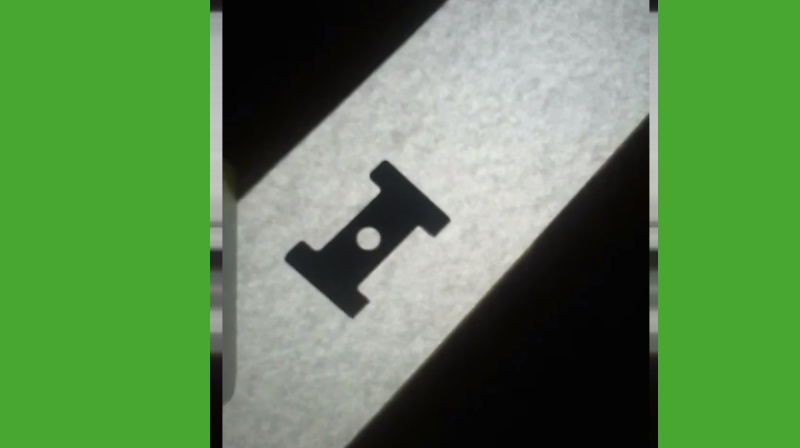O002: (281, 154, 452, 320)
